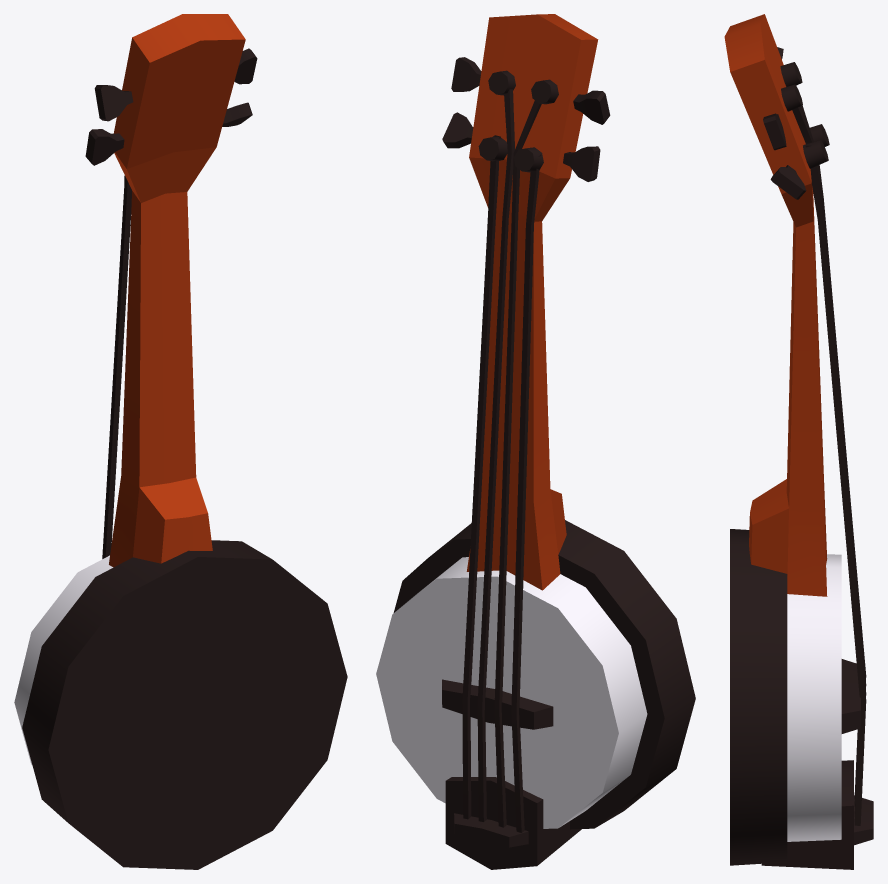
Rendered from Banjo.obj.
The picture shows the model from 3 angles, left to right: view 1: azimuth 30°, elevation 25°; view 2: azimuth 150°, elevation 25°; view 3: azimuth 270°, elevation 25°; orthographic projection. The views are drawn at different scales.
Visible parts, largest first — view 1: Handle1, Neck1, Drum1; view 2: Handle1, Drum1, Neck1; view 3: Handle1, Neck1, Drum1.
Part boxes in pixels (box(x1,y1,x2,y2)): Handle1: box(22, 48, 347, 869); Neck1: box(109, 14, 245, 567); Drum1: box(14, 555, 113, 765); Handle1: box(393, 57, 695, 869); Drum1: box(376, 557, 647, 828); Neck1: box(466, 14, 598, 590); Handle1: box(730, 47, 873, 869); Neck1: box(724, 14, 827, 596); Drum1: box(787, 554, 841, 841).
Size of the model in its own units: 1.04 by 2.86 by 0.4599.
